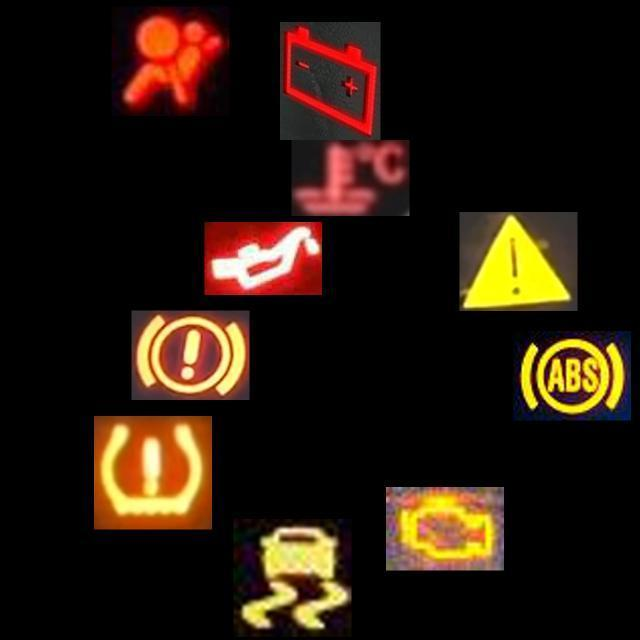Central Warning lamp: (460, 212, 578, 311)
Engine cooling system: (292, 140, 409, 216)
